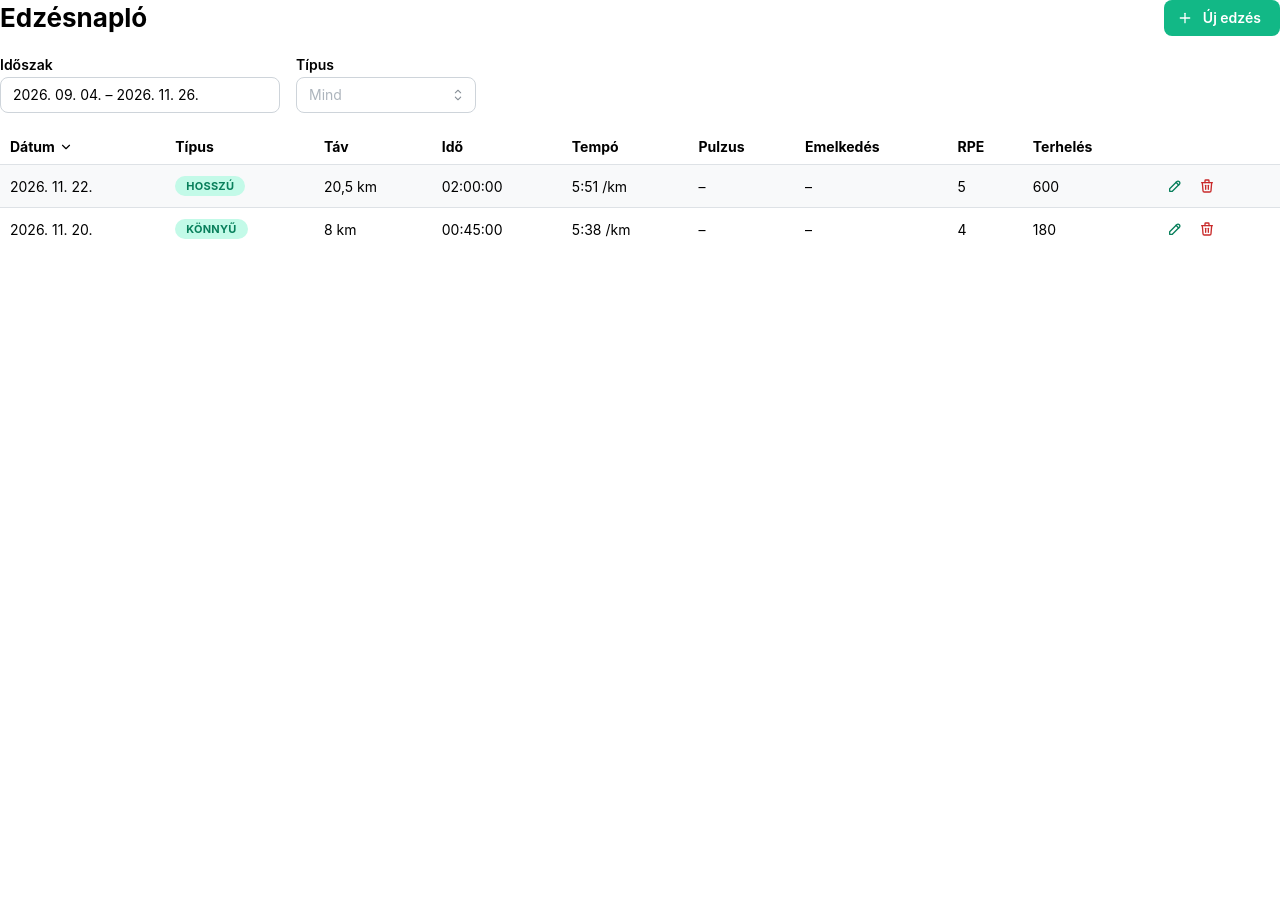
Test: WorkoutsPage › szerkesztéskor a módosított edzést küldi, a szerver mezőhibáját a mezőnél mutatja
Click the button named "Módosítás" in the row of "2026. 11. 20.". click: (1175, 230)
box: [1161, 216, 1189, 244]
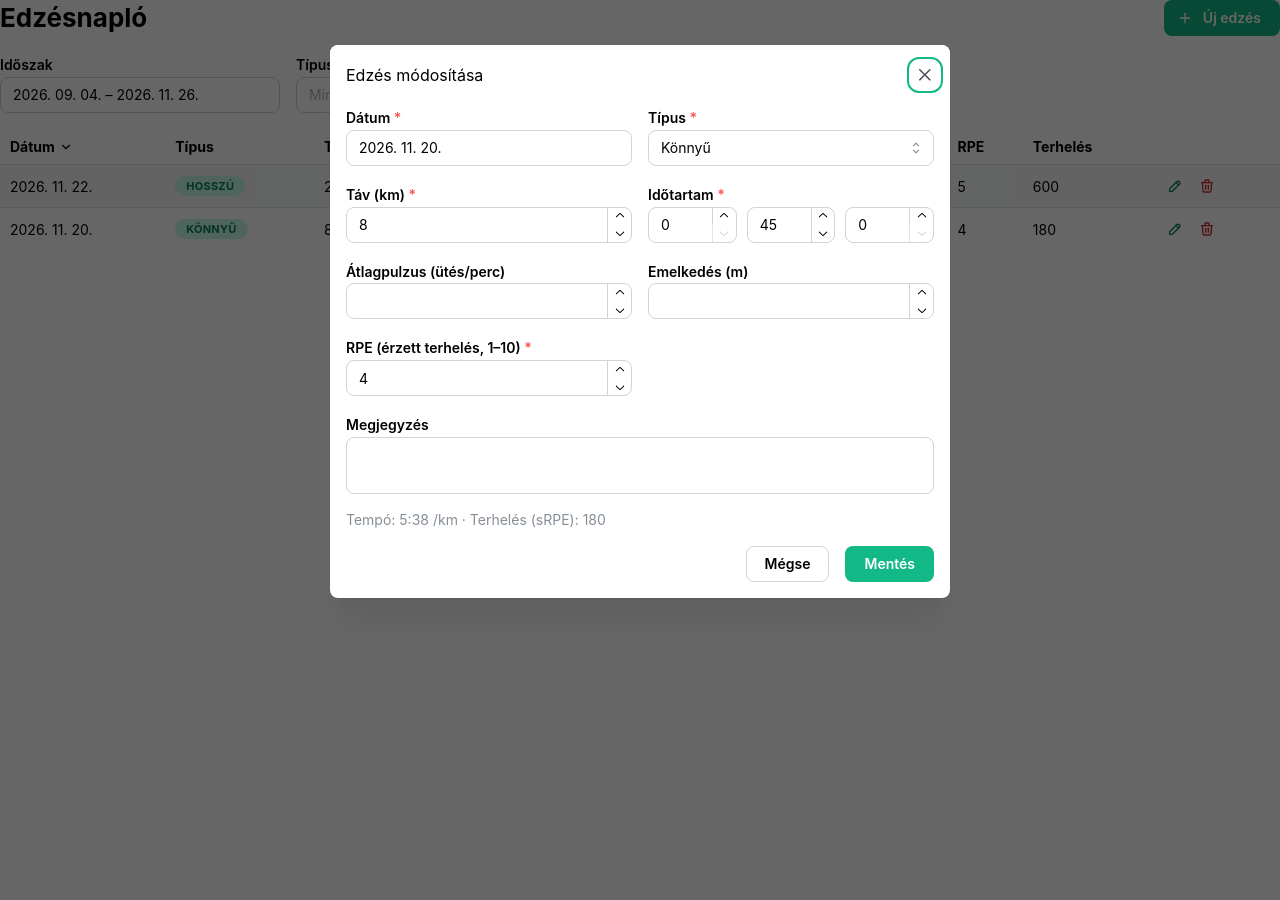
Replace the text in the field labelled "Táv (km) *" with "9,5". click: (489, 225)
box: [346, 207, 632, 243]
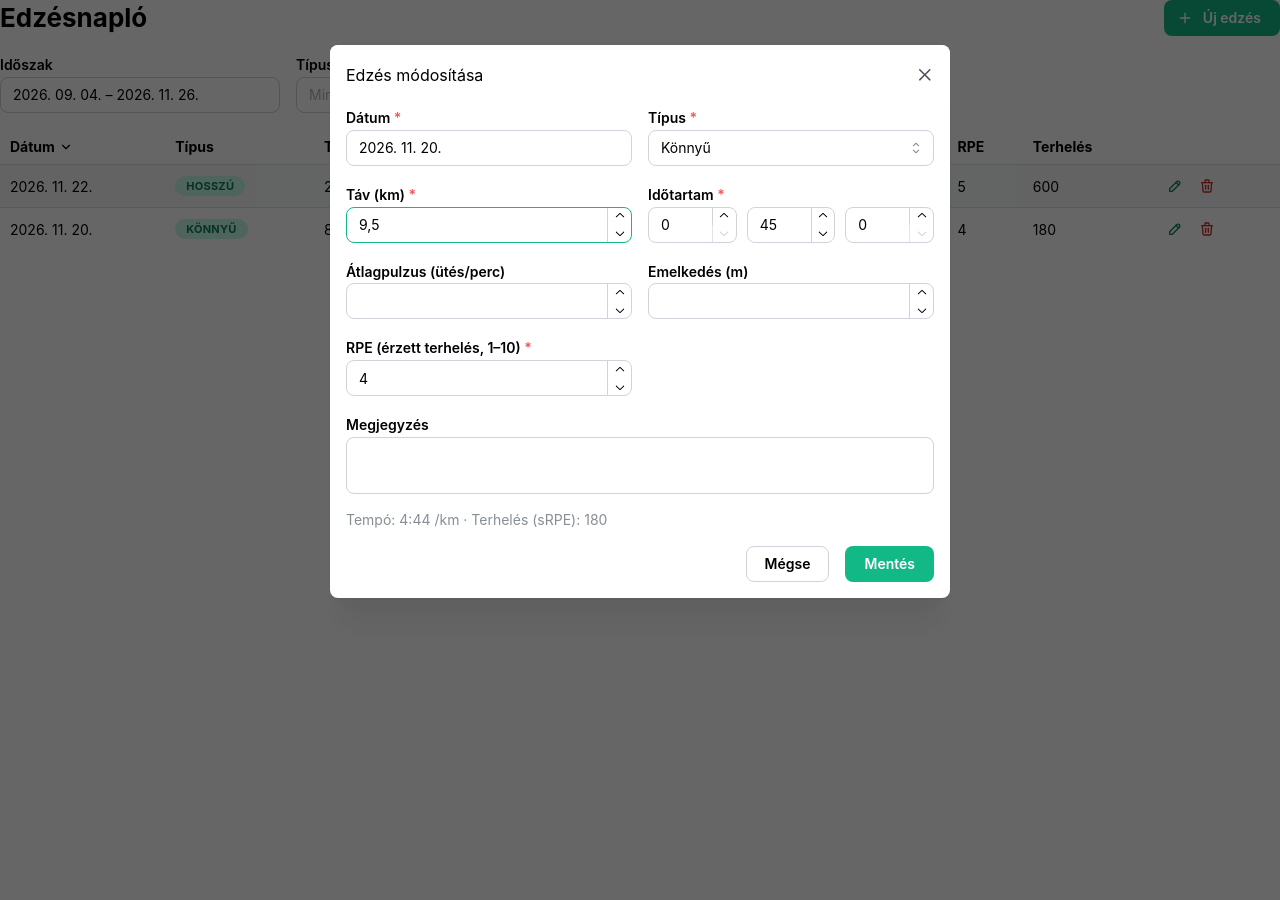
Click the button "Mentés". click: (890, 564)
box: [846, 546, 934, 582]
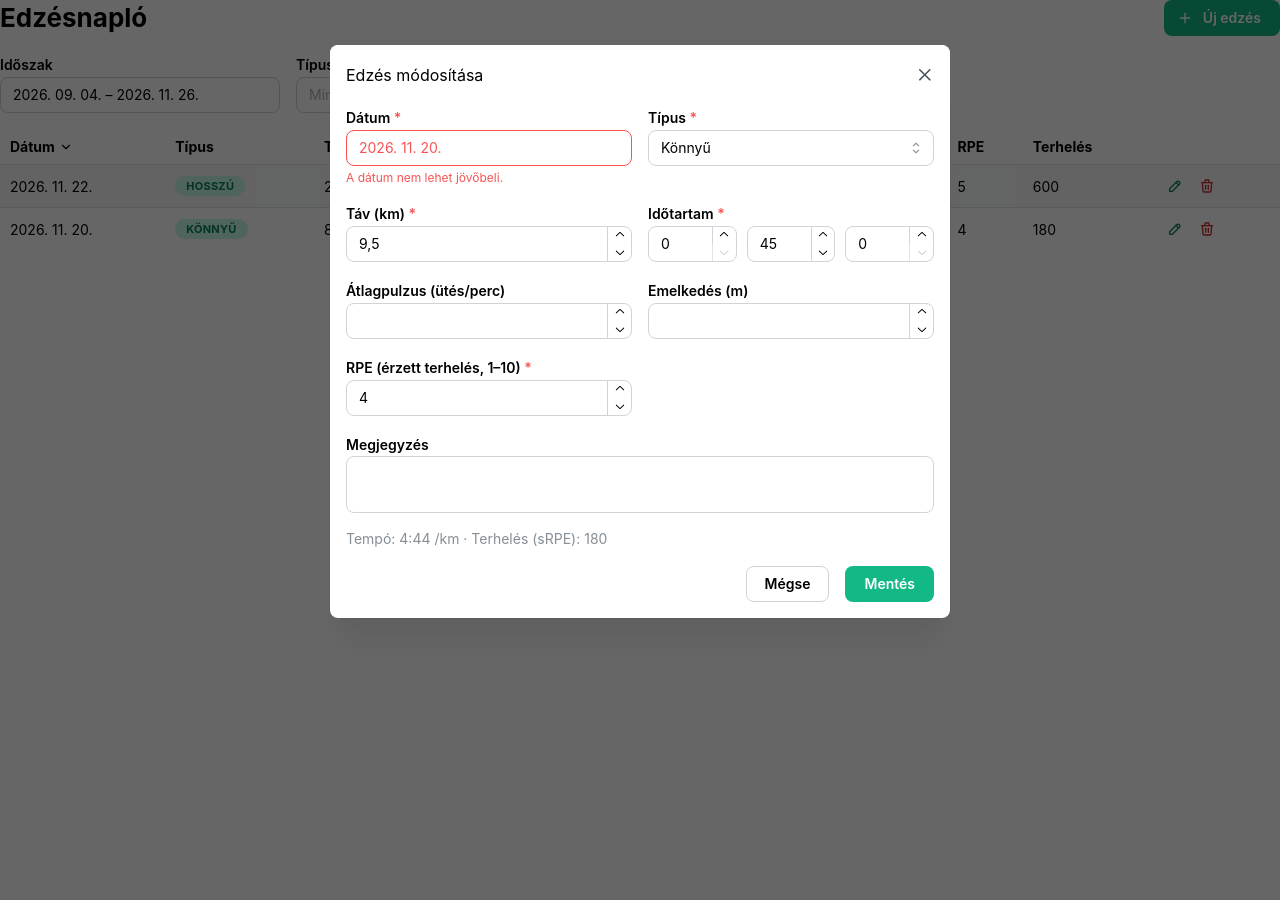
Expected: the text "A dátum nem lehet jövőbeli." is shown, [346, 170, 503, 185]
